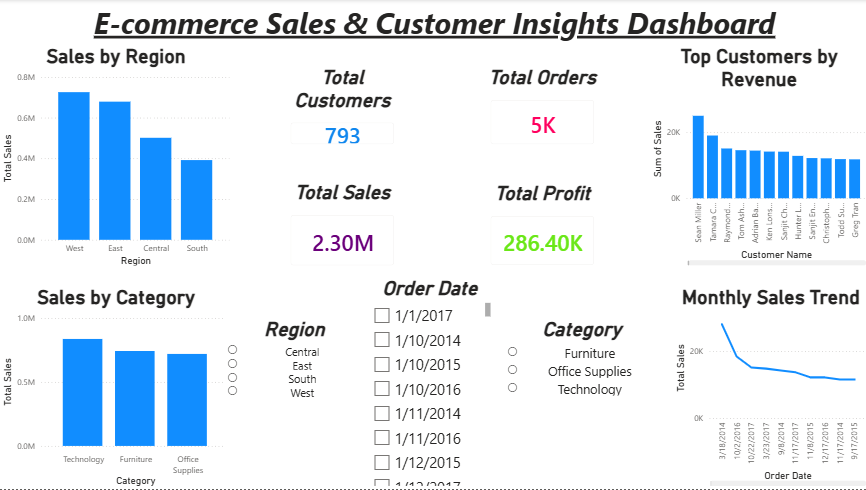

What the dashboard file says about the page in this screenshot:
{"tool":"powerbi","page":{"name":"Page 1","canvas":[1280,720],"ordinal":0},"visuals":[{"type":"cardVisual","title":"Total Orders","fields":{"Data":["Superstore.Total Orders"]},"box":[705.5,99.1,186.5,132.7],"z":0},{"type":"cardVisual","title":"Total Customers","fields":{"Data":["Superstore.Total Customers"]},"box":[411.5,99.1,186.5,132.7],"z":1000},{"type":"cardVisual","title":"Total Profit","fields":{"Data":["Superstore.Total Profit"]},"box":[705.5,268.8,186.5,139.4],"z":2000},{"type":"cardVisual","title":"Total Sales","fields":{"Data":["Superstore.Total Sales"]},"box":[411.5,267.1,186.5,141.1],"z":3000},{"type":"clusteredColumnChart","title":"Sales by Category","fields":{"Category":["Superstore.Category"],"Y":["Superstore.Total Sales"]},"box":[0,421.6,344.4,299],"z":3002},{"type":"clusteredColumnChart","title":"Sales by Region","fields":{"Category":["Superstore.Region"],"Y":["Superstore.Total Sales"]},"box":[0,67.2,344.4,329.2],"z":3003},{"type":"lineChart","title":"Monthly Sales Trend","fields":{"Category":["Superstore.Order Date"],"Y":["Superstore.Total Sales"]},"box":[989.4,421.6,290.6,299],"z":3004},{"type":"clusteredColumnChart","title":"Top Customers by Revenue","fields":{"Category":["Superstore.Customer Name"],"Y":["Sum(Superstore.Sales)"]},"box":[955.8,67.2,324.2,329.2],"z":3005},{"type":"listSlicer","fields":{"Values":["Superstore.Category"]},"box":[740.8,468.7,231.8,250.3],"z":3006},{"type":"listSlicer","fields":{"Values":["Superstore.Region"]},"box":[329.2,468.7,210,203.3],"z":3007},{"type":"textbox","box":[0,0,1280,67.2],"z":3009},{"type":"slicer","title":"Order Date","fields":{"Values":["Superstore.Order Date"]},"box":[539.3,408.5,188.1,311.5],"z":3010}]}

Visuals, with their boxes in screenshot pixels (x1, y1, x2, y2), scaled from the page's 1280x720 canvas onto the 866x490 screenshot:
"Total Orders" cardVisual: region(477, 67, 603, 158)
"Total Customers" cardVisual: region(278, 67, 405, 158)
"Total Profit" cardVisual: region(477, 183, 603, 278)
"Total Sales" cardVisual: region(278, 182, 405, 278)
"Sales by Category" clusteredColumnChart: region(0, 287, 233, 489)
"Sales by Region" clusteredColumnChart: region(0, 46, 233, 270)
"Monthly Sales Trend" lineChart: region(669, 287, 865, 489)
"Top Customers by Revenue" clusteredColumnChart: region(647, 46, 865, 270)
listSlicer - Superstore.Category: region(501, 319, 658, 489)
listSlicer - Superstore.Region: region(223, 319, 365, 457)
textbox: region(0, 0, 865, 46)
"Order Date" slicer: region(365, 278, 492, 489)
